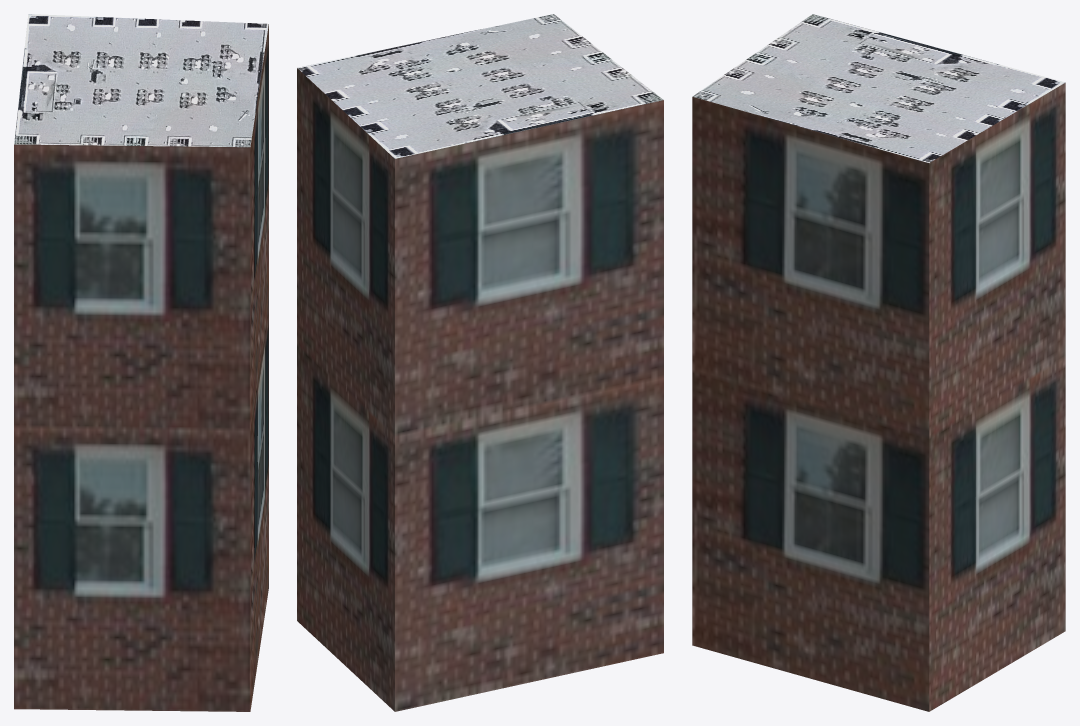
The model's file is ResTex__4866.fbx.
3 views of the same model, side by side, from view 1: azimuth 30°, elevation 25°; view 2: azimuth 150°, elevation 25°; view 3: azimuth 270°, elevation 25° (orthographic). The views are drawn at different scales.
Visible parts, largest first — view 1: CityEngineMaterial_14_m, CityEngineMaterial_m; view 2: CityEngineMaterial_14_m, CityEngineMaterial_m; view 3: CityEngineMaterial_14_m, CityEngineMaterial_m.
Boxes of the visible parts, box(x1,y1,x2,y2) form: CityEngineMaterial_14_m: box(14, 24, 268, 711); CityEngineMaterial_m: box(14, 14, 268, 147); CityEngineMaterial_14_m: box(297, 68, 663, 711); CityEngineMaterial_m: box(297, 14, 663, 158); CityEngineMaterial_14_m: box(692, 82, 1065, 711); CityEngineMaterial_m: box(692, 14, 1065, 162).
Size of the model in its own units: 3.5 by 6 by 3.7.
Materials: 2 (2 with a texture image).
